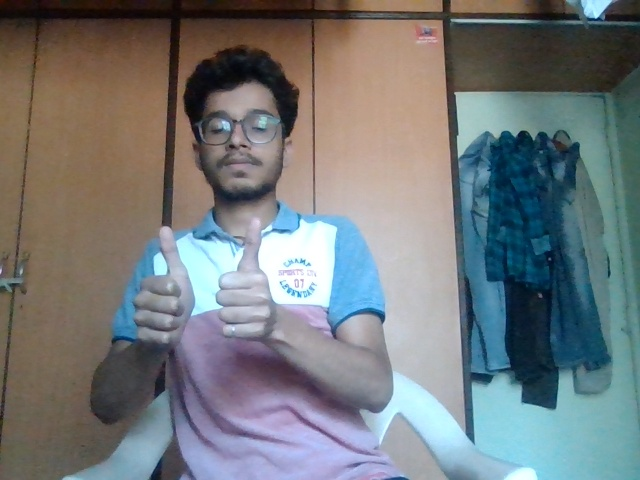thank-you: (134, 214, 298, 365)
